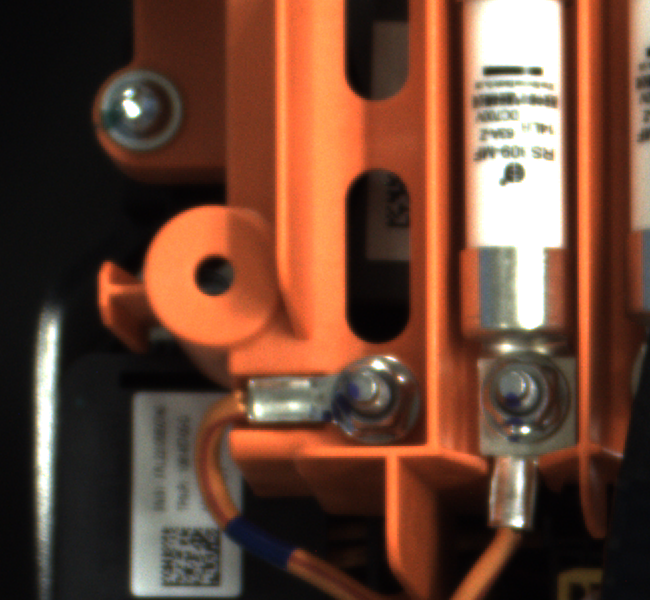screw_m: (94, 70, 202, 159)
screw_s: (314, 353, 424, 448), (472, 346, 578, 444)
